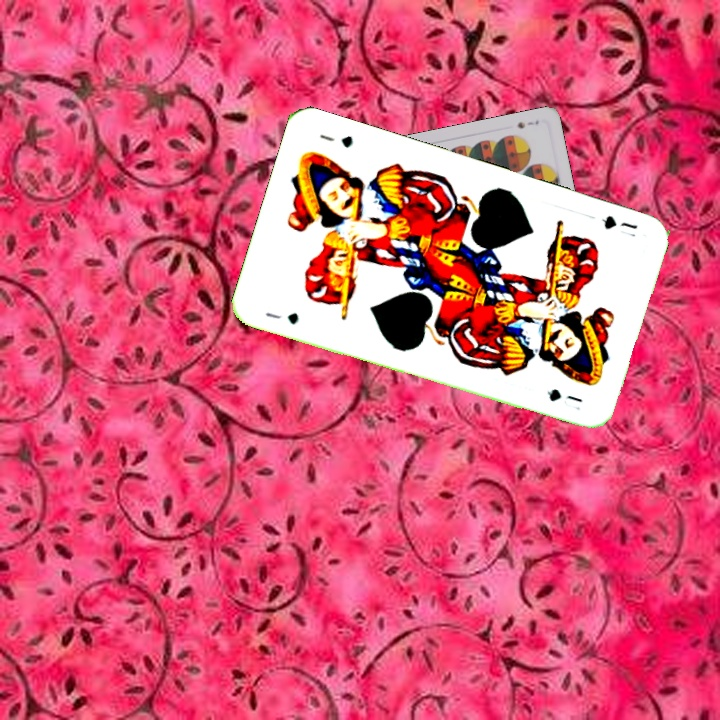GU: (598, 211, 640, 240), (261, 308, 301, 328)
S7: (513, 116, 541, 131)
